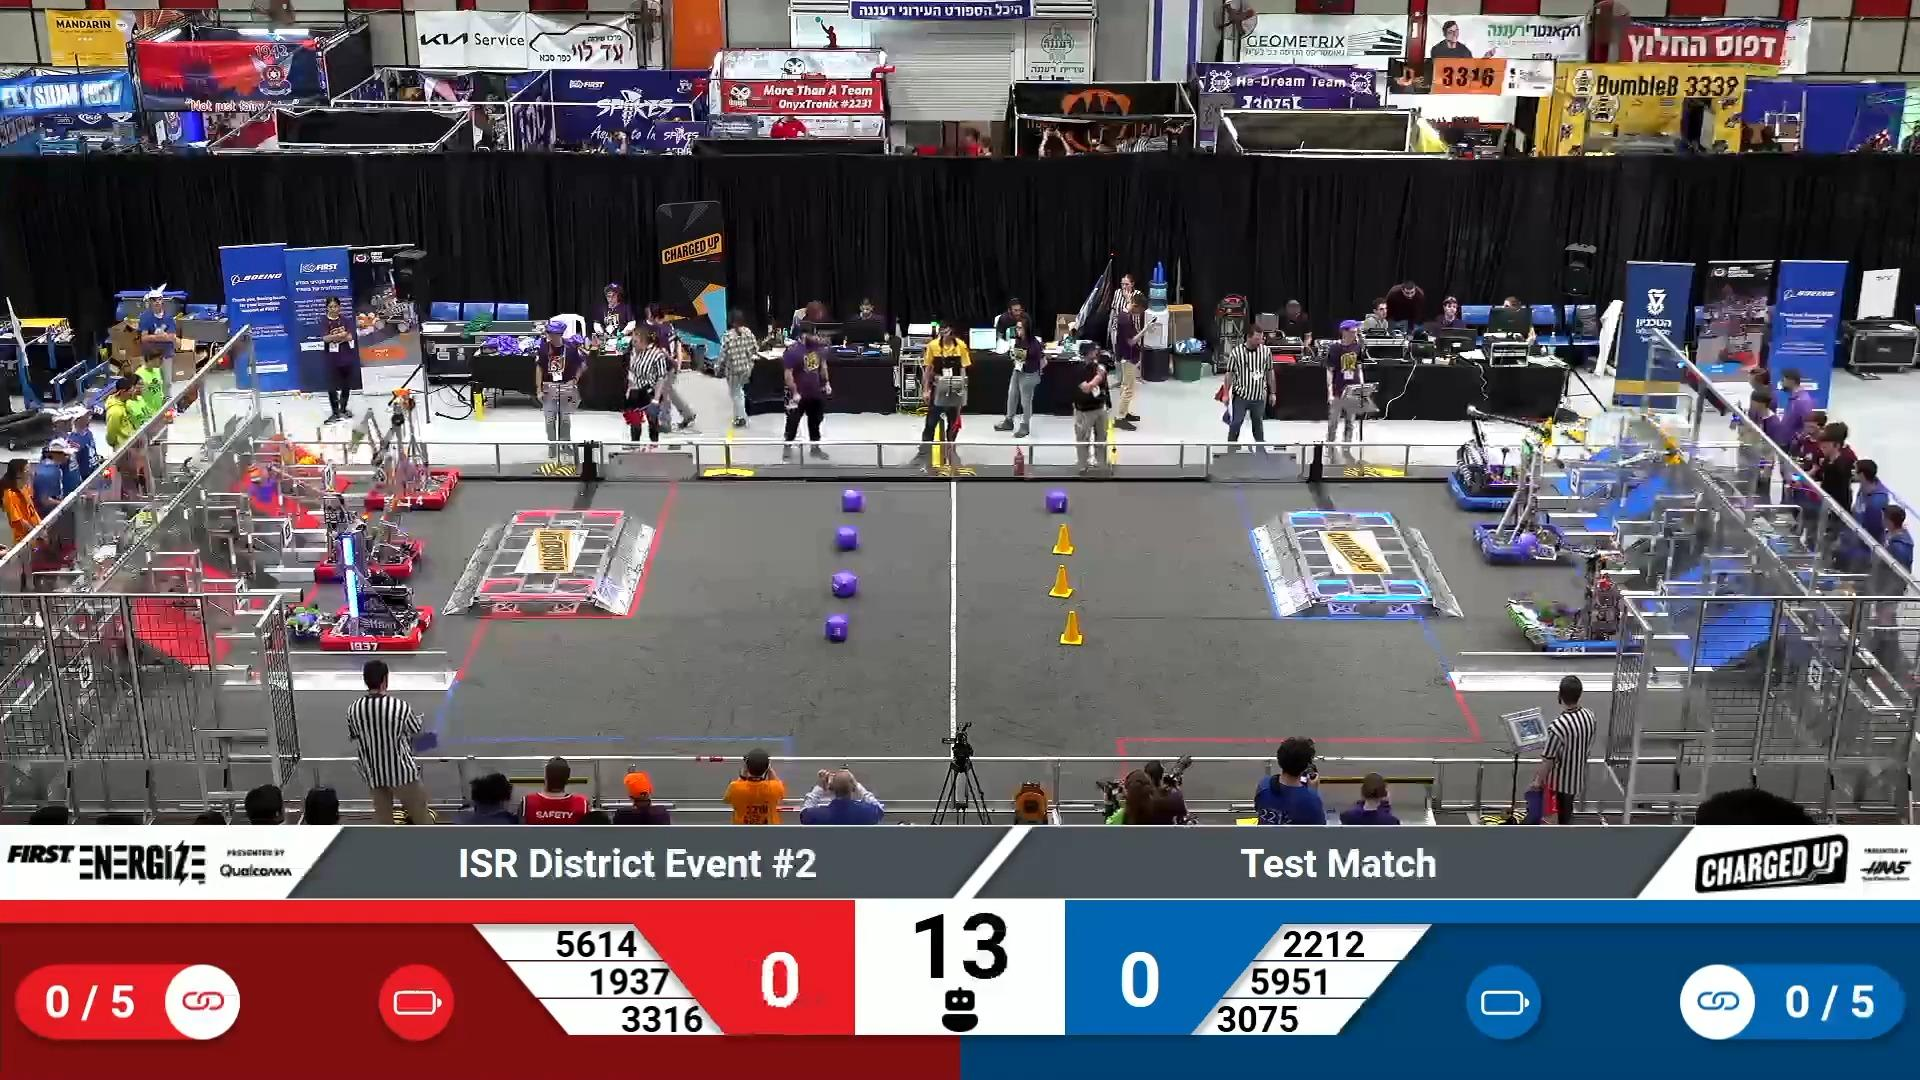robot: (1506, 547, 1647, 659), (313, 521, 433, 649), (351, 386, 459, 512), (1474, 438, 1575, 567), (1449, 404, 1553, 512), (315, 489, 425, 578)
